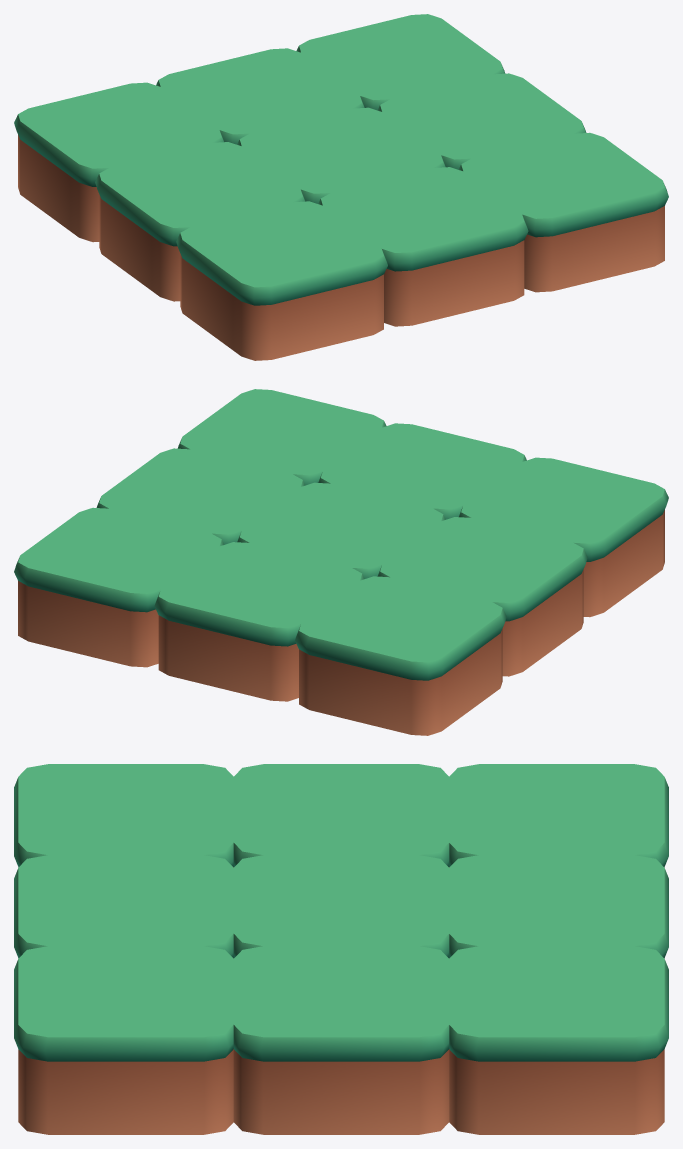
The model's file is plataforma_random.glb.
The picture shows the model from 3 angles, top to bottom: view 1: azimuth 30°, elevation 25°; view 2: azimuth 150°, elevation 25°; view 3: azimuth 270°, elevation 25°; orthographic projection. The views are drawn at different scales.
Visible parts, largest first — view 1: block-grass-large.007; view 2: block-grass-large.007; view 3: block-grass-large.007.
Part boxes in pixels (box(x1,y1,x2,y2)): block-grass-large.007: box(14, 14, 668, 360); block-grass-large.007: box(14, 389, 668, 735); block-grass-large.007: box(14, 764, 668, 1134).
Bounding box in the file's own units: 6.08 × 1 × 6.08.
Materials: 9 (9 with a texture image).
